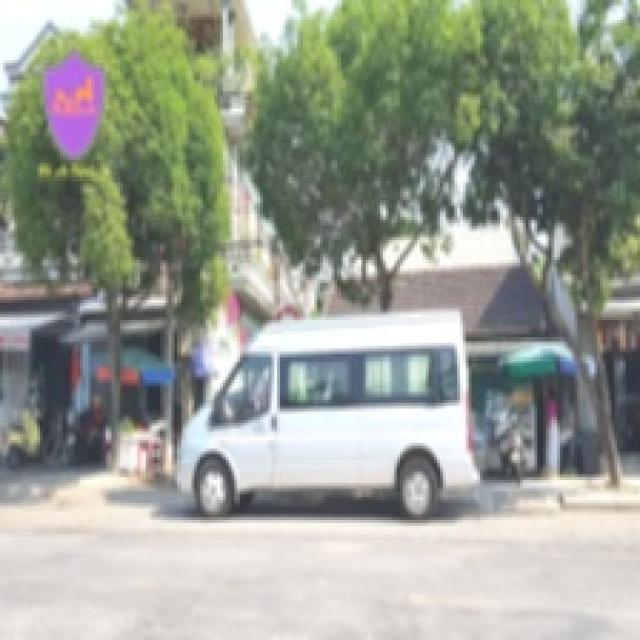car: (148, 303, 494, 534)
